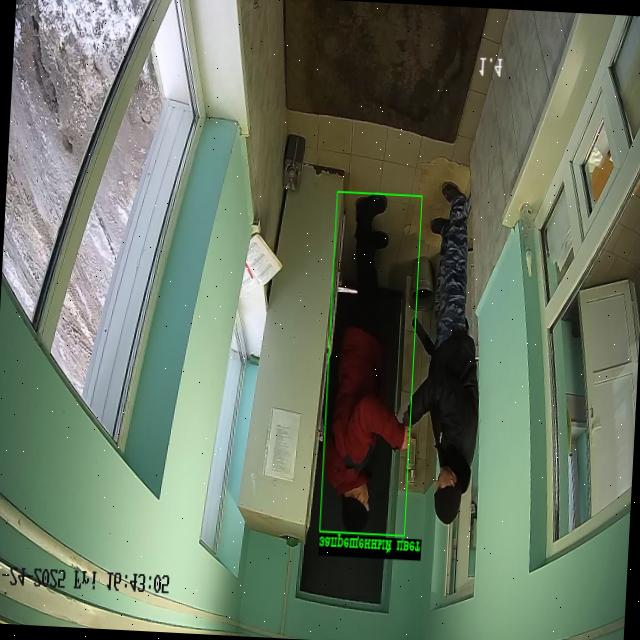Person: (411, 183, 479, 525)
Red uniform: (325, 195, 408, 532)
